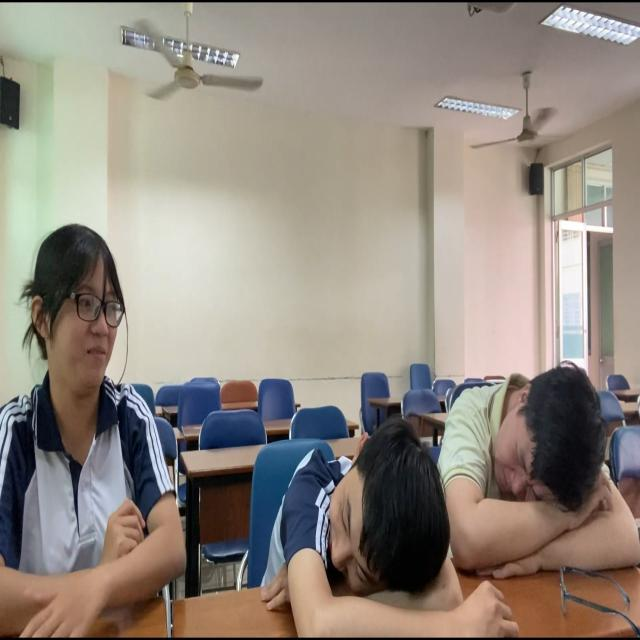sleep: (257, 419, 453, 634), (442, 376, 640, 583)
